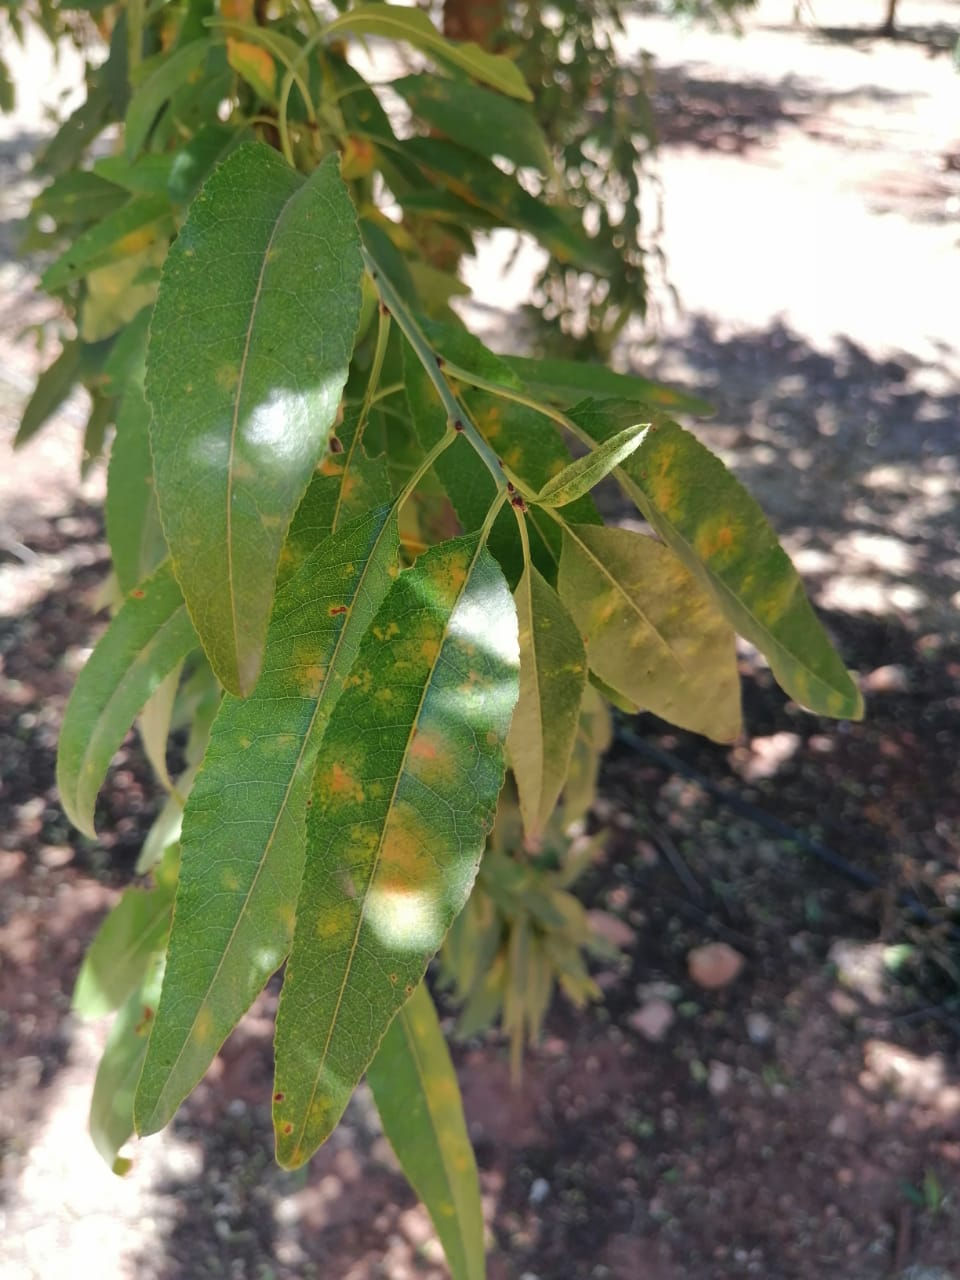polystigma: (132, 500, 409, 1142), (269, 530, 519, 1171), (136, 135, 364, 698), (559, 395, 871, 722)
